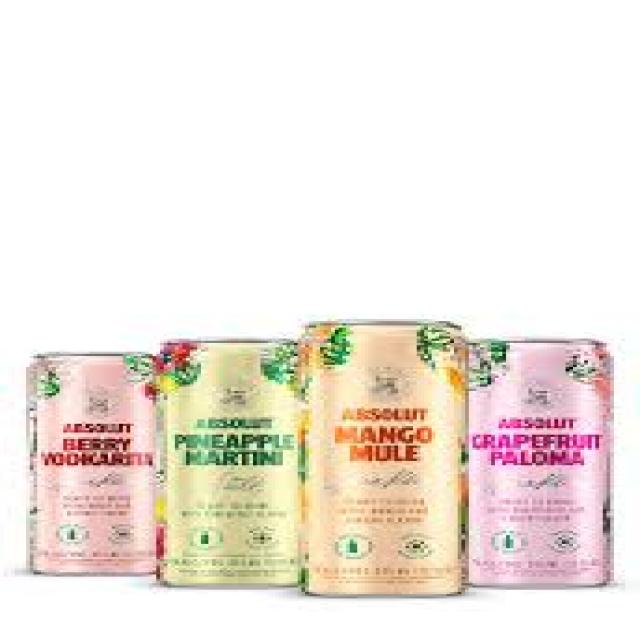Cans: (290, 312, 484, 603), (465, 332, 625, 594), (152, 334, 309, 592), (22, 345, 160, 577)
